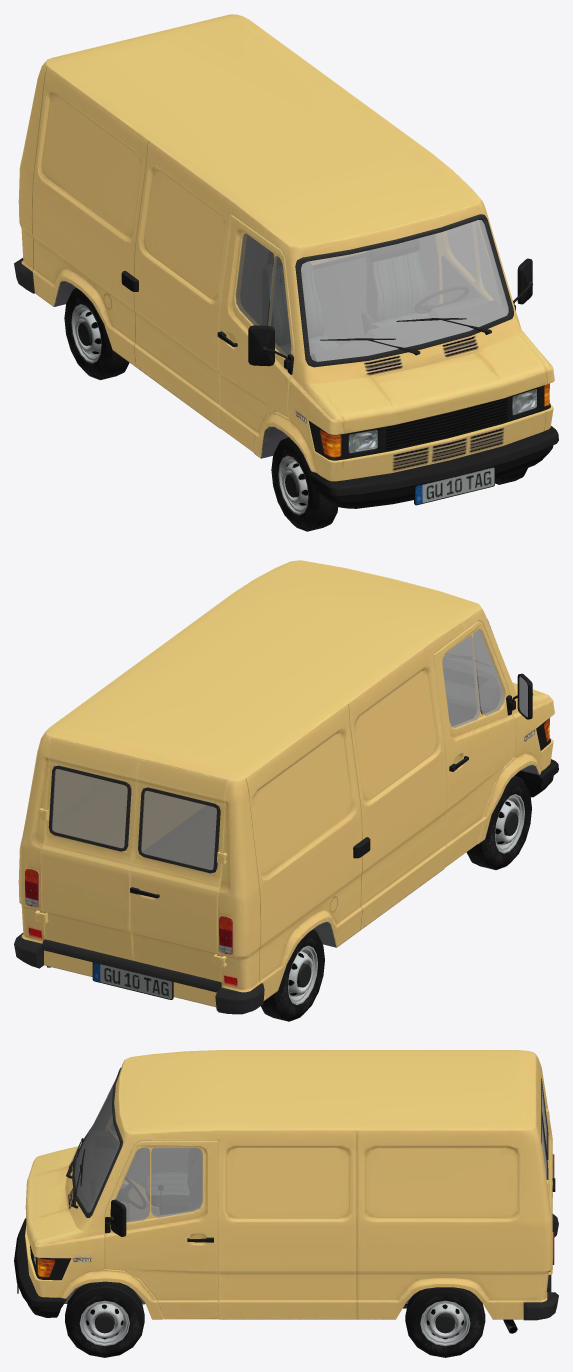
File: van.glb
The picture shows the model from 3 angles, top to bottom: view 1: azimuth 30°, elevation 25°; view 2: azimuth 150°, elevation 25°; view 3: azimuth 270°, elevation 25°; orthographic projection. The views are drawn at different scales.
Parts seen in each view (by area): view 1: polySurface149_van_european_delivery_body_shd_0.001, door_glass_ply_van_european_delivery_glass_shd_0.001, bumper_front_ply_van_european_delivery_trim_shd_0, wheel_front_ply_van_european_delivery_wheels_shd_0; view 2: polySurface149_van_european_delivery_body_shd_0.001, door_glass_ply_van_european_delivery_glass_shd_0.001, wheel_front_ply_van_european_delivery_wheels_shd_0, bumper_front_ply_van_european_delivery_trim_shd_0; view 3: polySurface149_van_european_delivery_body_shd_0.001, wheel_front_ply_van_european_delivery_wheels_shd_0, door_glass_ply_van_european_delivery_glass_shd_0.001, bumper_front_ply_van_european_delivery_trim_shd_0.
Part boxes in pixels (box(x1,y1,x2,y2)): polySurface149_van_european_delivery_body_shd_0.001: box(14, 14, 554, 481); door_glass_ply_van_european_delivery_glass_shd_0.001: box(235, 220, 508, 361); bumper_front_ply_van_european_delivery_trim_shd_0: box(121, 239, 558, 508); wheel_front_ply_van_european_delivery_wheels_shd_0: box(64, 288, 527, 531); polySurface149_van_european_delivery_body_shd_0.001: box(14, 560, 554, 1014); door_glass_ply_van_european_delivery_glass_shd_0.001: box(52, 630, 505, 870); wheel_front_ply_van_european_delivery_wheels_shd_0: box(261, 775, 531, 1021); bumper_front_ply_van_european_delivery_trim_shd_0: box(92, 673, 558, 999); polySurface149_van_european_delivery_body_shd_0.001: box(25, 1050, 558, 1320); wheel_front_ply_van_european_delivery_wheels_shd_0: box(65, 1281, 485, 1357); door_glass_ply_van_european_delivery_glass_shd_0.001: box(74, 1079, 547, 1222); bumper_front_ply_van_european_delivery_trim_shd_0: box(14, 1127, 555, 1317).
Size of the model in its own units: 2.58 by 2.43 by 5.2.
Materials: 5 (4 with a texture image).
